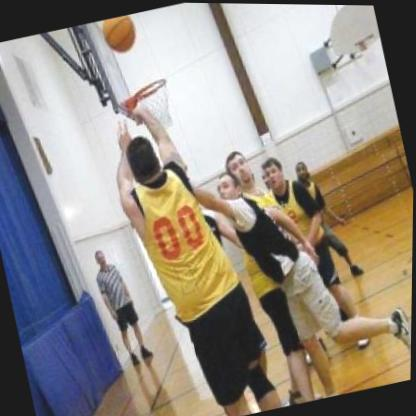basketball: (98, 13, 144, 58)
